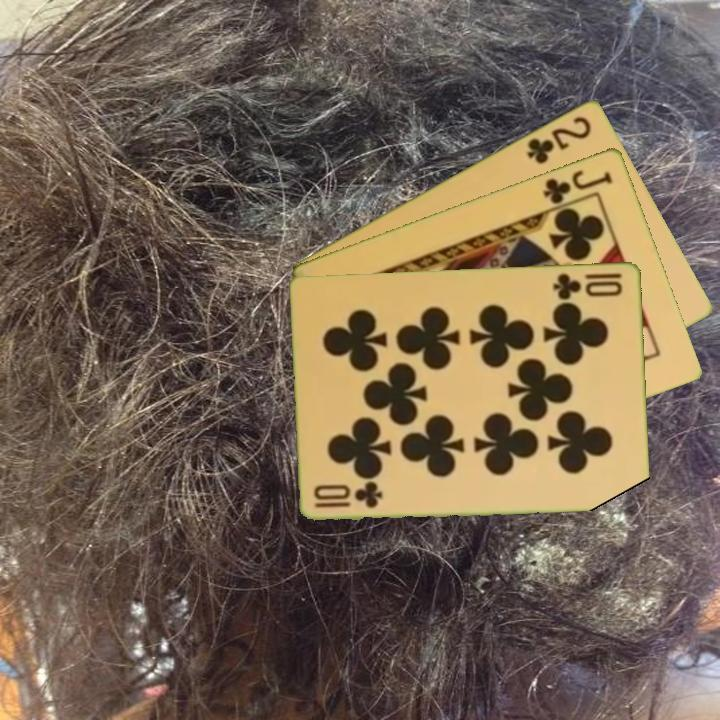10c: (550, 269, 626, 302), (311, 481, 386, 511)
2c: (523, 112, 595, 167)
Jc: (539, 166, 616, 207)
